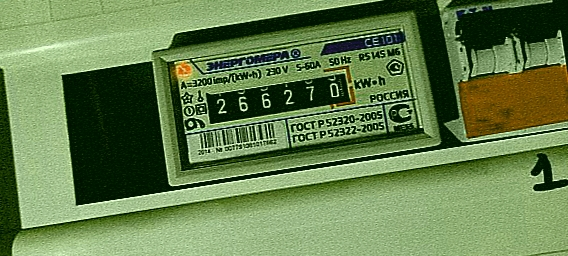0: (326, 80, 340, 99)
2: (212, 95, 228, 115), (280, 86, 294, 106)
6: (235, 93, 250, 113), (258, 90, 272, 110)
7: (303, 83, 317, 102)
screen: (193, 60, 362, 133)
